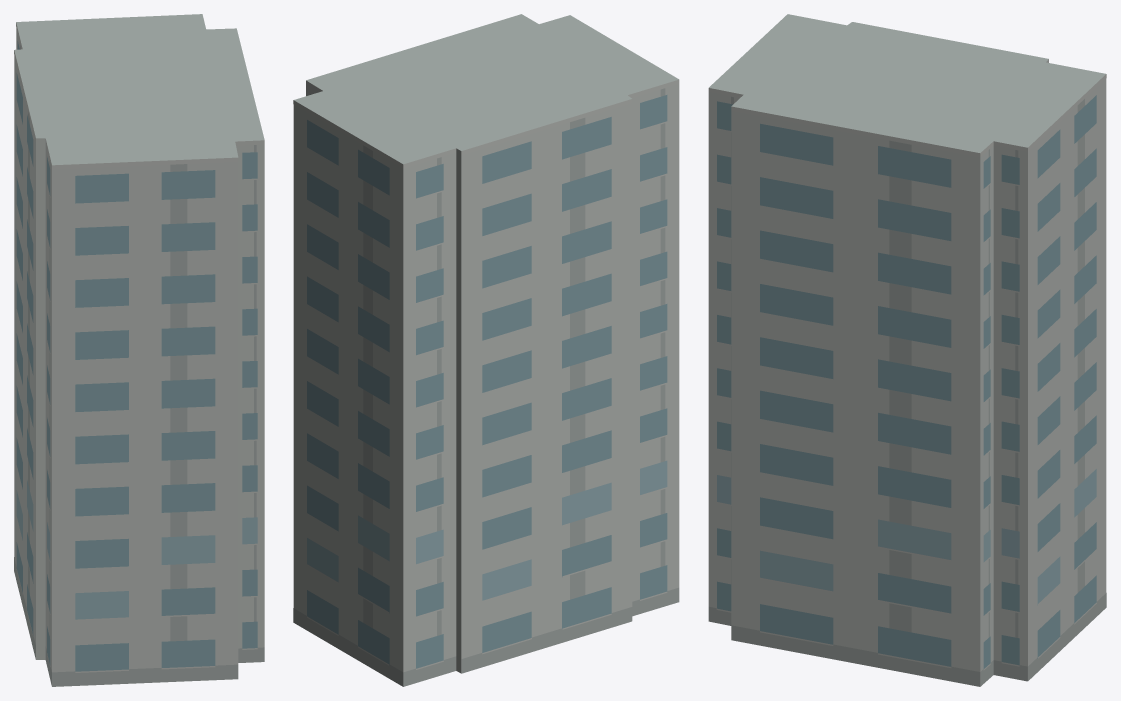
Rendered from survey-upis-32521910.glb.
3 views of the same model, side by side, from view 1: azimuth 30°, elevation 25°; view 2: azimuth 150°, elevation 25°; view 3: azimuth 270°, elevation 25° (orthographic). The views are drawn at different scales.
Visible parts, largest first — view 1: survey-upis-32521910.tmp; view 2: survey-upis-32521910.tmp; view 3: survey-upis-32521910.tmp.
Boxes of the visible parts, bbox=[...] form: survey-upis-32521910.tmp: bbox=[14, 14, 264, 686]; survey-upis-32521910.tmp: bbox=[293, 14, 679, 686]; survey-upis-32521910.tmp: bbox=[708, 14, 1106, 686].
Bounding box in the file's own units: 16.34 × 29.2 × 19.74.
